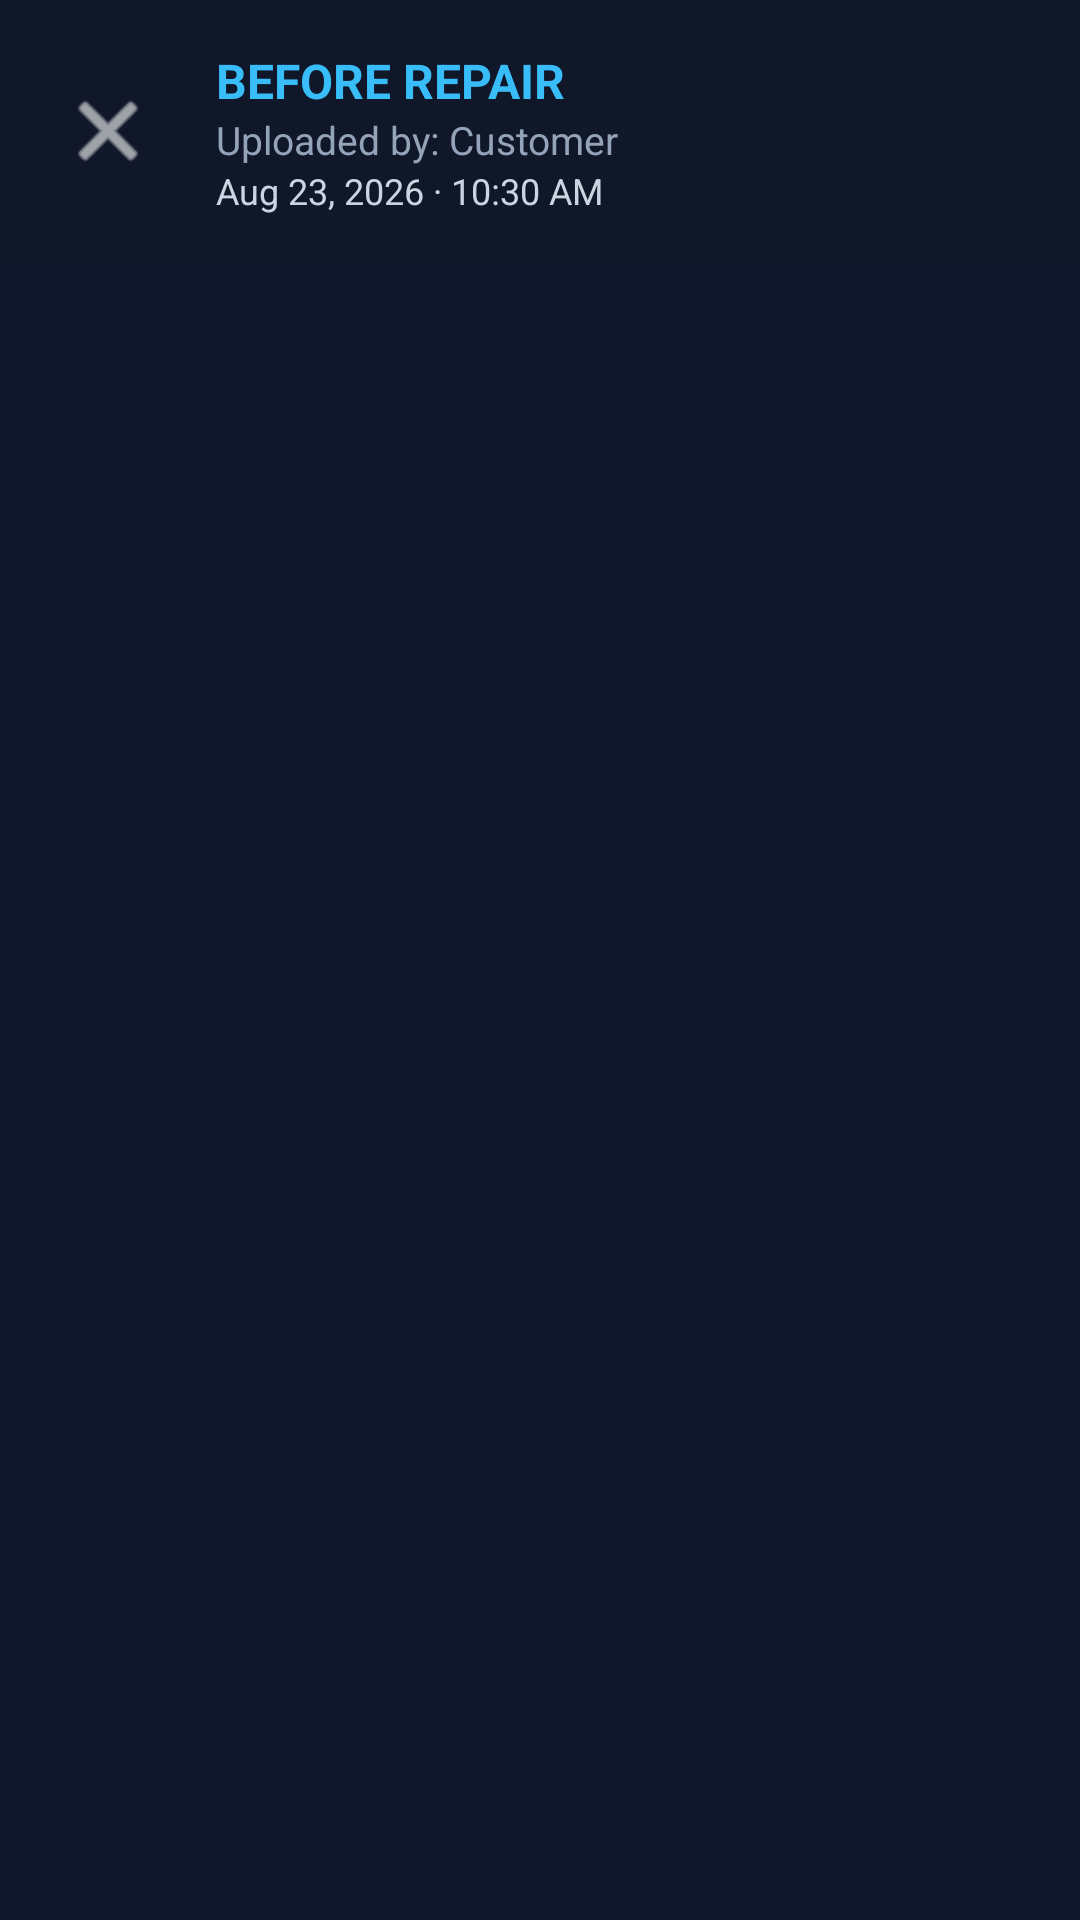

Named icons in this screenshot (1080px x 1920px) and their bounding boxes, bbox=(x1, y1, x2, y2):
Close Preview: bbox=(78, 101, 138, 161)
